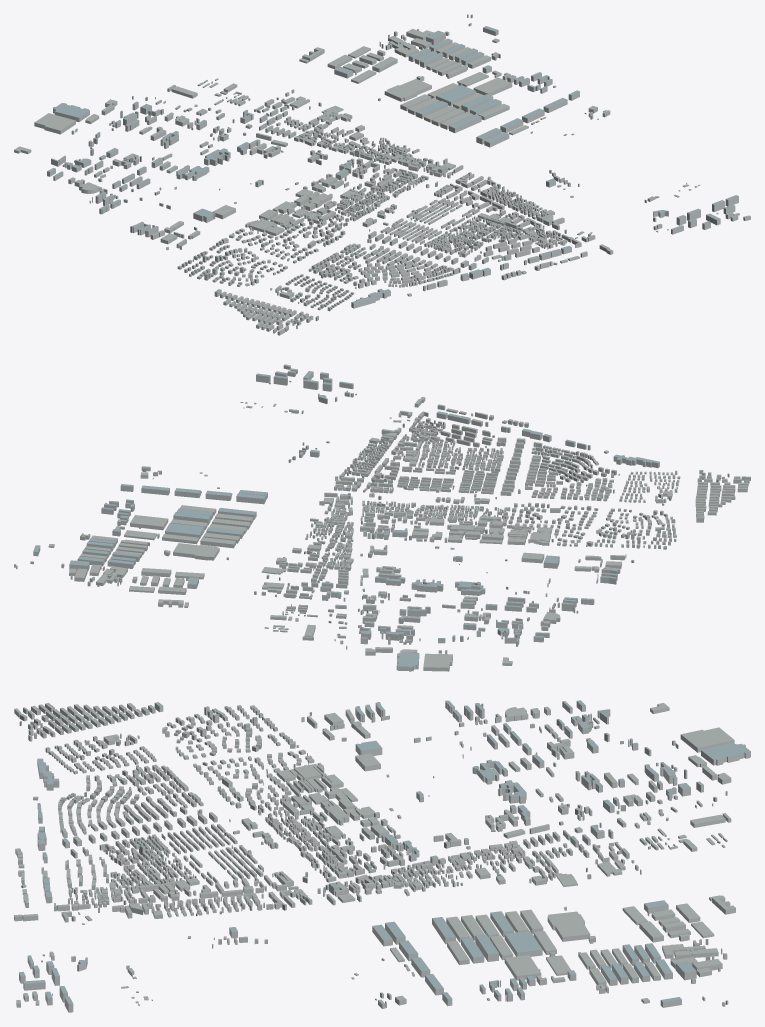
Rendered from far.glb.
3 renders of one model, top to bottom at view 1: azimuth 30°, elevation 25°; view 2: azimuth 150°, elevation 25°; view 3: azimuth 270°, elevation 25°, orthographic. The views are drawn at different scales.
Bounding box in the file's own units: 2148 × 30.9 × 2181.
